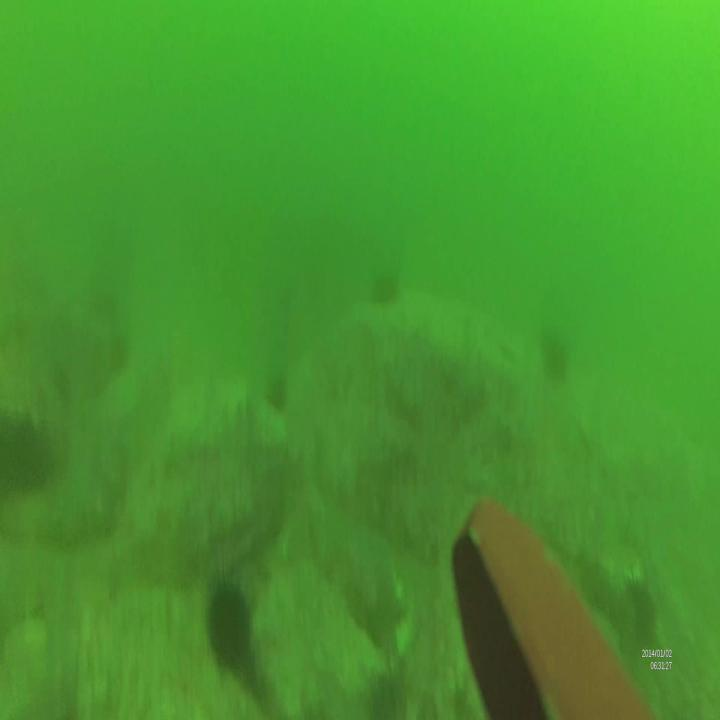echinus: (0, 396, 48, 498), (208, 567, 252, 671), (624, 567, 658, 638), (540, 324, 569, 383), (371, 268, 401, 309)
